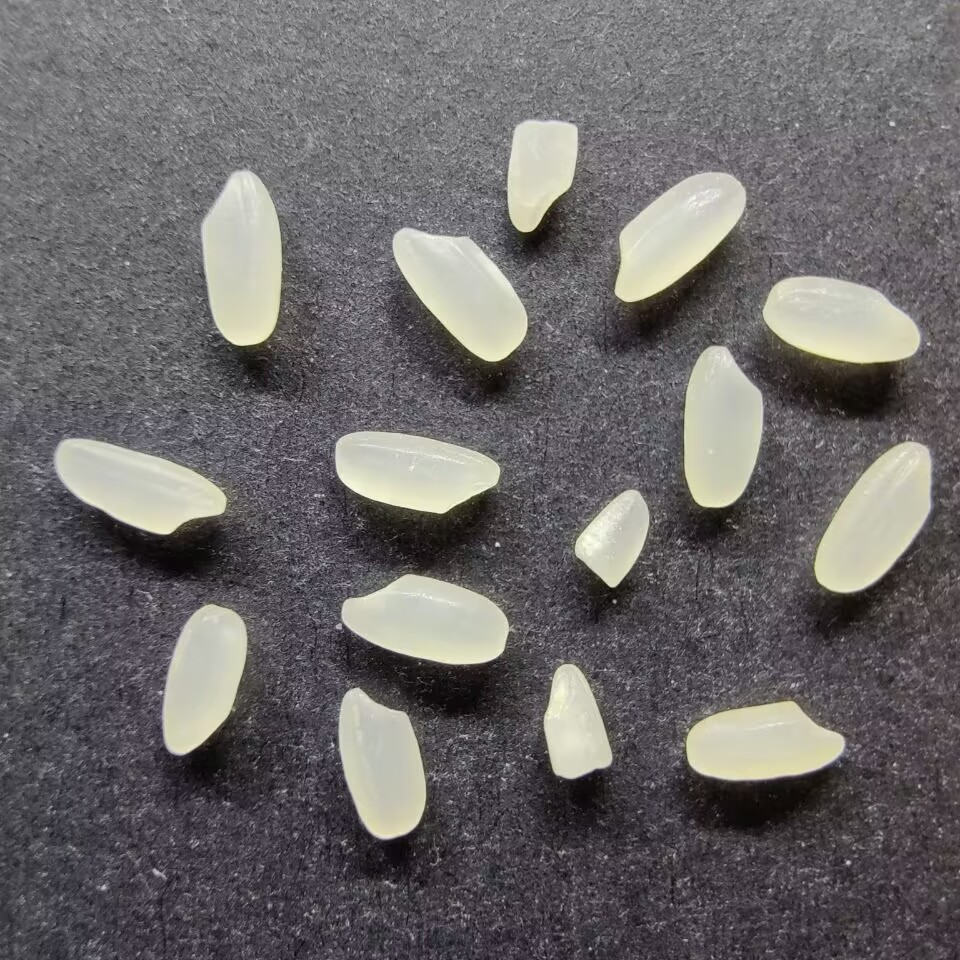broken: (504, 117, 579, 235), (542, 662, 613, 781), (571, 487, 651, 590)
rice: (389, 225, 528, 362), (812, 440, 934, 596), (612, 170, 747, 302), (51, 438, 229, 537), (340, 573, 509, 666), (197, 169, 283, 346), (332, 428, 502, 514), (760, 274, 920, 365), (334, 687, 428, 840), (680, 342, 766, 508), (161, 603, 248, 758), (684, 700, 846, 781)
